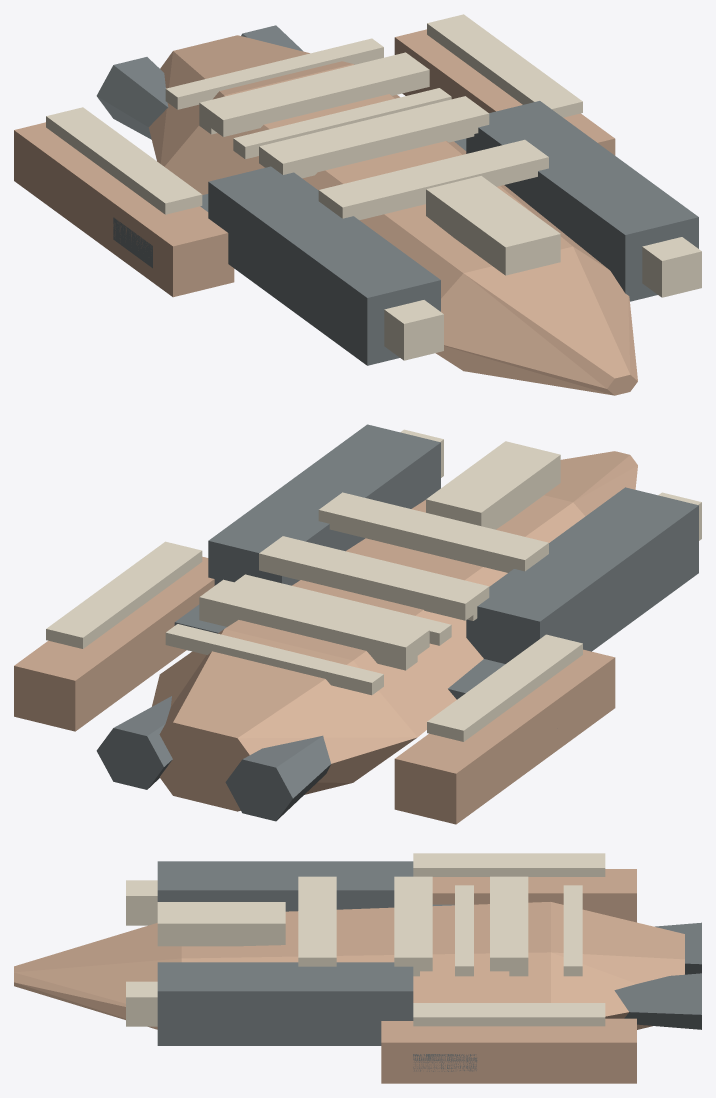
3 renders of one model, top to bottom at view 1: azimuth 30°, elevation 25°; view 2: azimuth 150°, elevation 25°; view 3: azimuth 270°, elevation 25°, orthographic. The views are drawn at different scales.
Size of the model in its own units: 2.62 by 0.7944 by 4.39.
